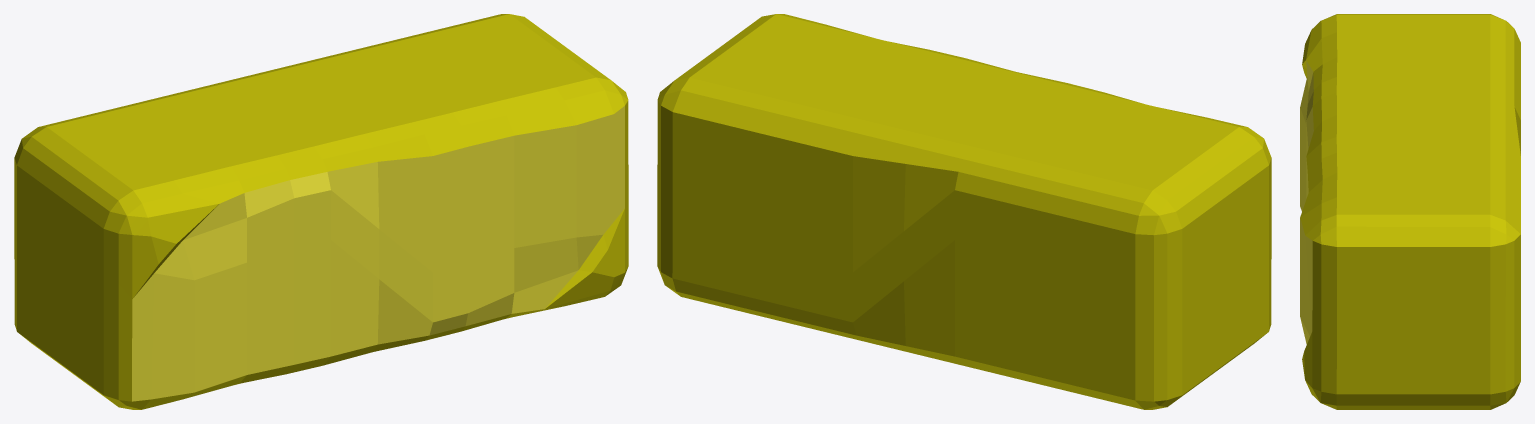
The model's file is bigyellowbutton.fbx.
3 views of the same model, side by side, from view 1: azimuth 30°, elevation 25°; view 2: azimuth 150°, elevation 25°; view 3: azimuth 270°, elevation 25° (orthographic). The views are drawn at different scales.
Parts seen in each view (by area): view 1: pCube6; view 2: pCube6; view 3: pCube6.
Boxes of the visible parts, x1,y1,x2,y2 form: pCube6: (14,14,628,409); pCube6: (657,14,1271,409); pCube6: (1300,14,1520,409).
Bounding box in the file's own units: 2.49 × 1 × 1.03.
